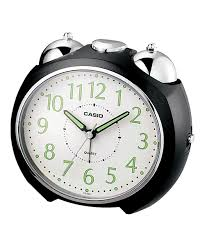alarm_clock: (8, 32, 195, 216), (20, 32, 195, 216)
